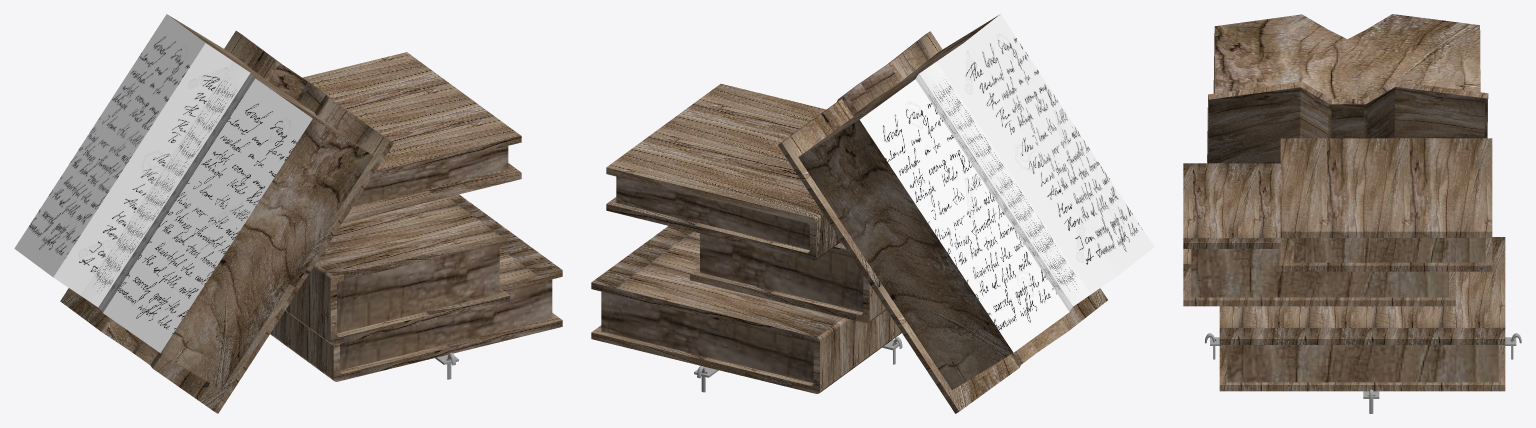
Rendered from book.glb.
The picture shows the model from 3 angles, left to right: view 1: azimuth 30°, elevation 25°; view 2: azimuth 150°, elevation 25°; view 3: azimuth 270°, elevation 25°; orthographic projection. The views are drawn at different scales.
Parts seen in each view (by area): view 1: Node; view 2: Node; view 3: Node.
Boxes of the visible parts, x1,y1,x2,y2 form: Node: (14,14,562,413); Node: (591,14,1154,413); Node: (1183,14,1521,413).
Bounding box in the file's own units: 242 × 162 × 179.
7 materials, 6 textured.
